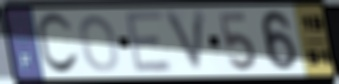5: (216, 10, 258, 73)
6: (259, 8, 301, 74)
C: (34, 11, 82, 77)
E: (122, 10, 175, 77)
O: (77, 13, 121, 74)
V: (161, 7, 209, 77)
